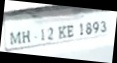character: (10, 31, 21, 45), (21, 30, 30, 43), (57, 25, 66, 38), (46, 27, 54, 40), (66, 24, 74, 37), (84, 22, 92, 35), (92, 20, 99, 34), (99, 20, 106, 32), (40, 28, 45, 41), (79, 22, 83, 35)
